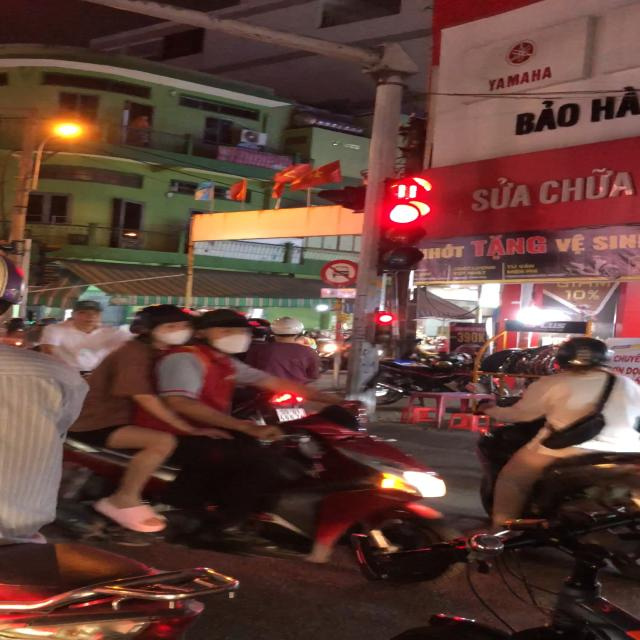Bien bao cam xe oto: (318, 258, 362, 286)
